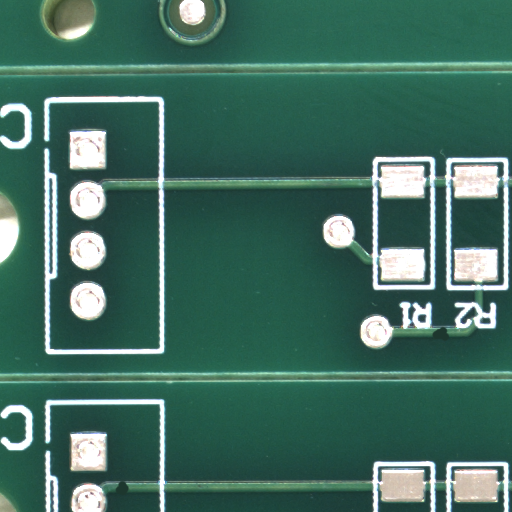Mouse_bite: (441, 333, 458, 346), (121, 487, 133, 499)
